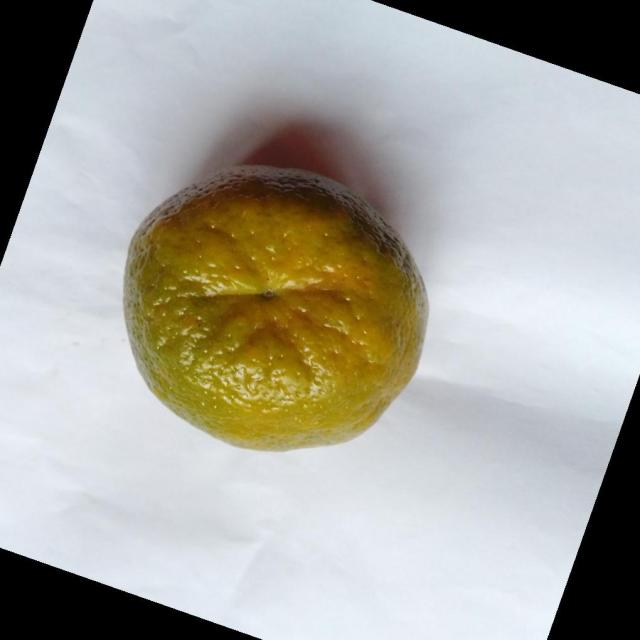fresh orange: (121, 162, 429, 452)
